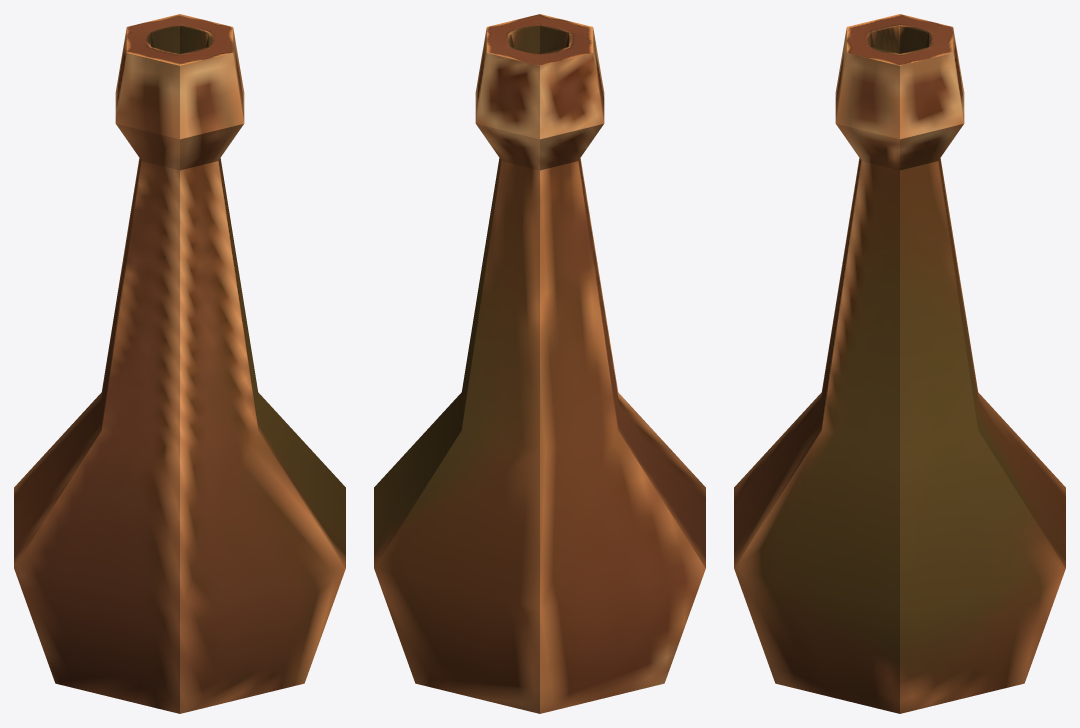
Rendered from Rome_Village_Props_10.FBX.
3 renders of one model, left to right at view 1: azimuth 30°, elevation 25°; view 2: azimuth 150°, elevation 25°; view 3: azimuth 270°, elevation 25°, orthographic.
Visible parts, largest first — view 1: Rome_Village_Props_10; view 2: Rome_Village_Props_10; view 3: Rome_Village_Props_10.
Part boxes in pixels (box(x1,y1,x2,y2)): Rome_Village_Props_10: box(14, 14, 345, 713); Rome_Village_Props_10: box(374, 14, 705, 713); Rome_Village_Props_10: box(734, 14, 1065, 713).
Bounding box in the file's own units: 30.23 × 53.38 × 26.18.
